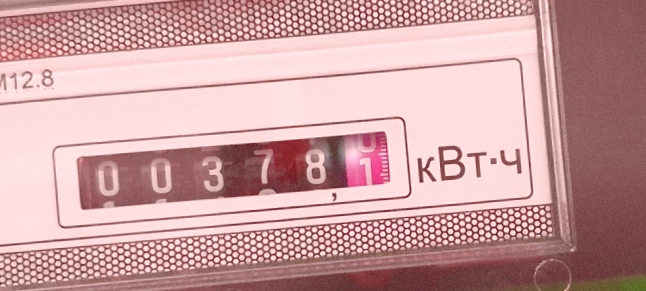0: (95, 156, 124, 197), (148, 154, 174, 194), (355, 130, 378, 153)
1: (356, 153, 377, 186)
3: (199, 152, 227, 194)
7: (251, 145, 276, 185)
8: (302, 145, 328, 186)
screen: (55, 111, 411, 220)
